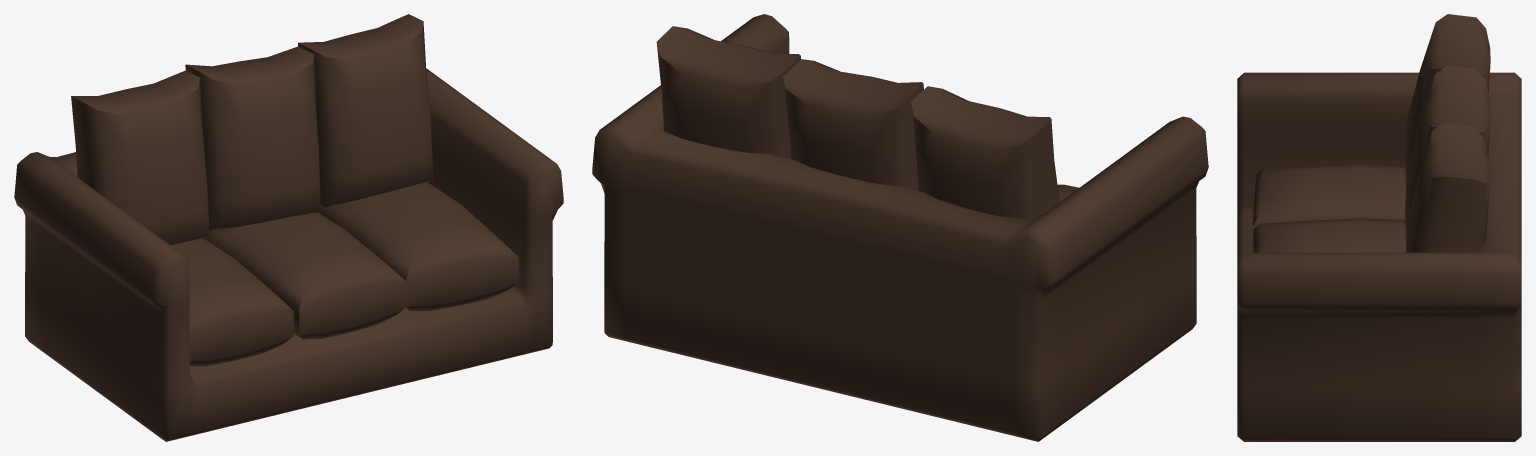
File: pk_love_brown.glb
The picture shows the model from 3 angles, left to right: view 1: azimuth 30°, elevation 25°; view 2: azimuth 150°, elevation 25°; view 3: azimuth 270°, elevation 25°; orthographic projection. The views are drawn at different scales.
Visible parts, largest first — view 1: pk_love_brown; view 2: pk_love_brown; view 3: pk_love_brown.
Part boxes in pixels (bbox=[...]): pk_love_brown: bbox=[14, 14, 563, 441]; pk_love_brown: bbox=[592, 14, 1208, 441]; pk_love_brown: bbox=[1237, 14, 1521, 441].
Size of the model in its own units: 1.65 by 1 by 1.
1 material, 1 textured.
